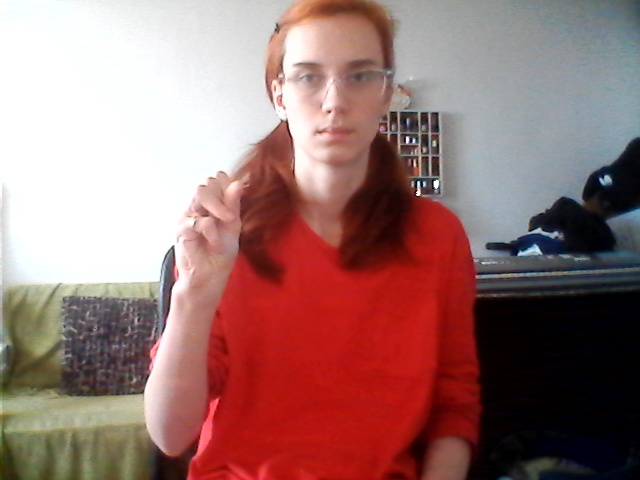r: (160, 162, 261, 309)
